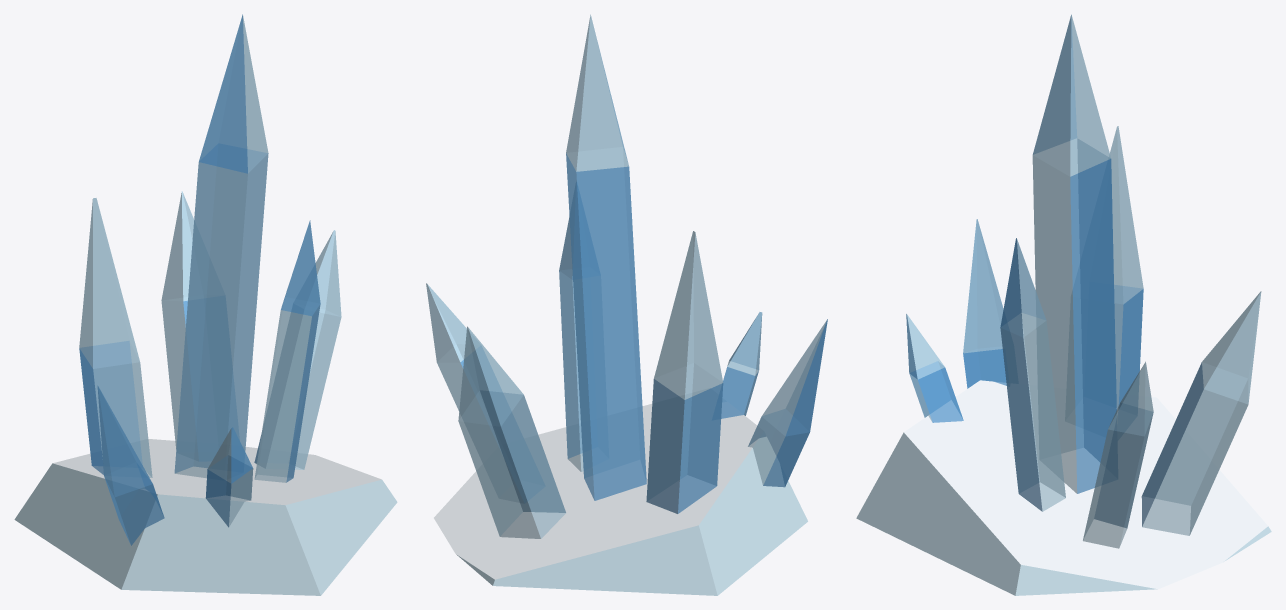
The model's file is hielo1.obj.
The picture shows the model from 3 angles, left to right: view 1: azimuth 30°, elevation 25°; view 2: azimuth 150°, elevation 25°; view 3: azimuth 270°, elevation 25°; orthographic projection. The views are drawn at different scales.
Parts seen in each view (by area): view 1: hielo_lp_espinas; view 2: hielo_lp_espinas; view 3: hielo_lp_espinas.
Part boxes in pixels (x1,y1,x2,y2): hielo_lp_espinas: (14,14,397,595); hielo_lp_espinas: (426,14,827,595); hielo_lp_espinas: (856,14,1271,595).
Bounding box in the file's own units: 6.06 × 9.07 × 6.6.
